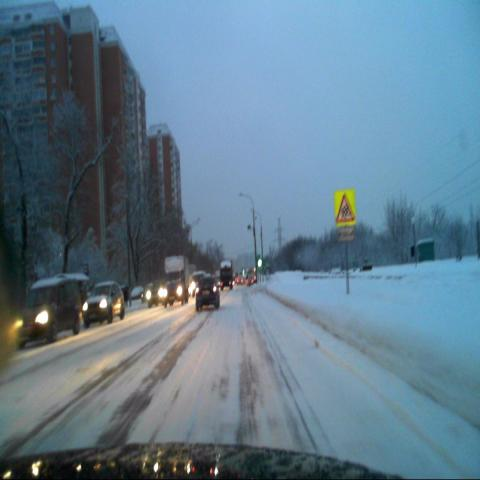8_2_1: (336, 226, 355, 243)
